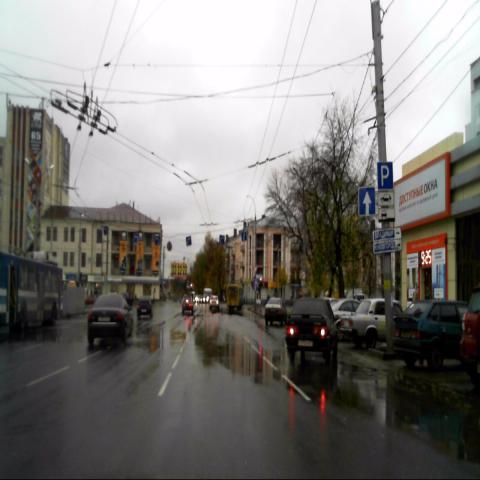5_5: (360, 189, 374, 216)
6_4: (378, 161, 393, 190)
